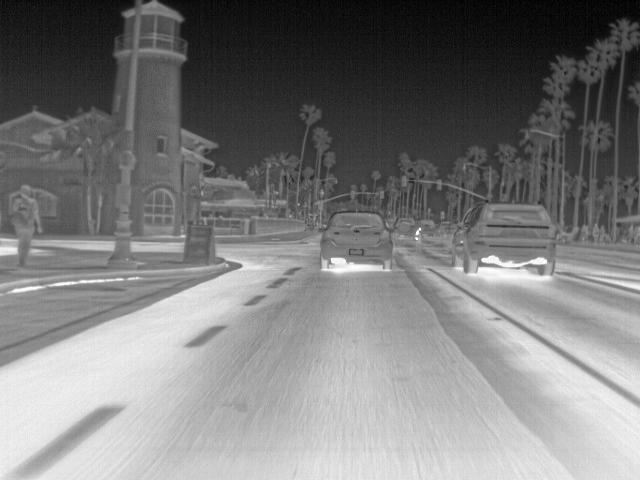car: (455, 200, 559, 274), (316, 211, 395, 269), (392, 216, 418, 237), (416, 218, 437, 234)
person: (10, 185, 44, 264), (591, 222, 603, 247)
